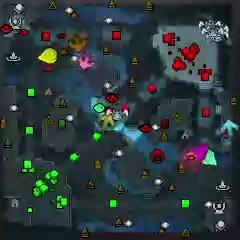p2: (203, 149, 218, 167)
p3: (192, 144, 210, 163)
p4: (37, 46, 58, 64)
x1: (75, 52, 96, 70)
x2: (98, 114, 115, 133)
x3: (220, 120, 239, 138)
x5: (67, 34, 89, 51)
